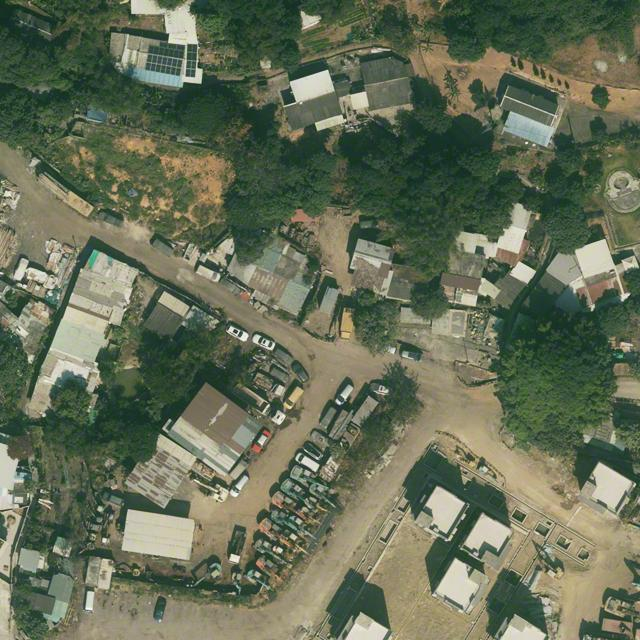panel: (145, 45, 185, 76), (185, 43, 198, 78), (159, 42, 186, 50)
